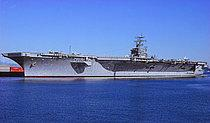MIL_Ship: (2, 32, 207, 77)
